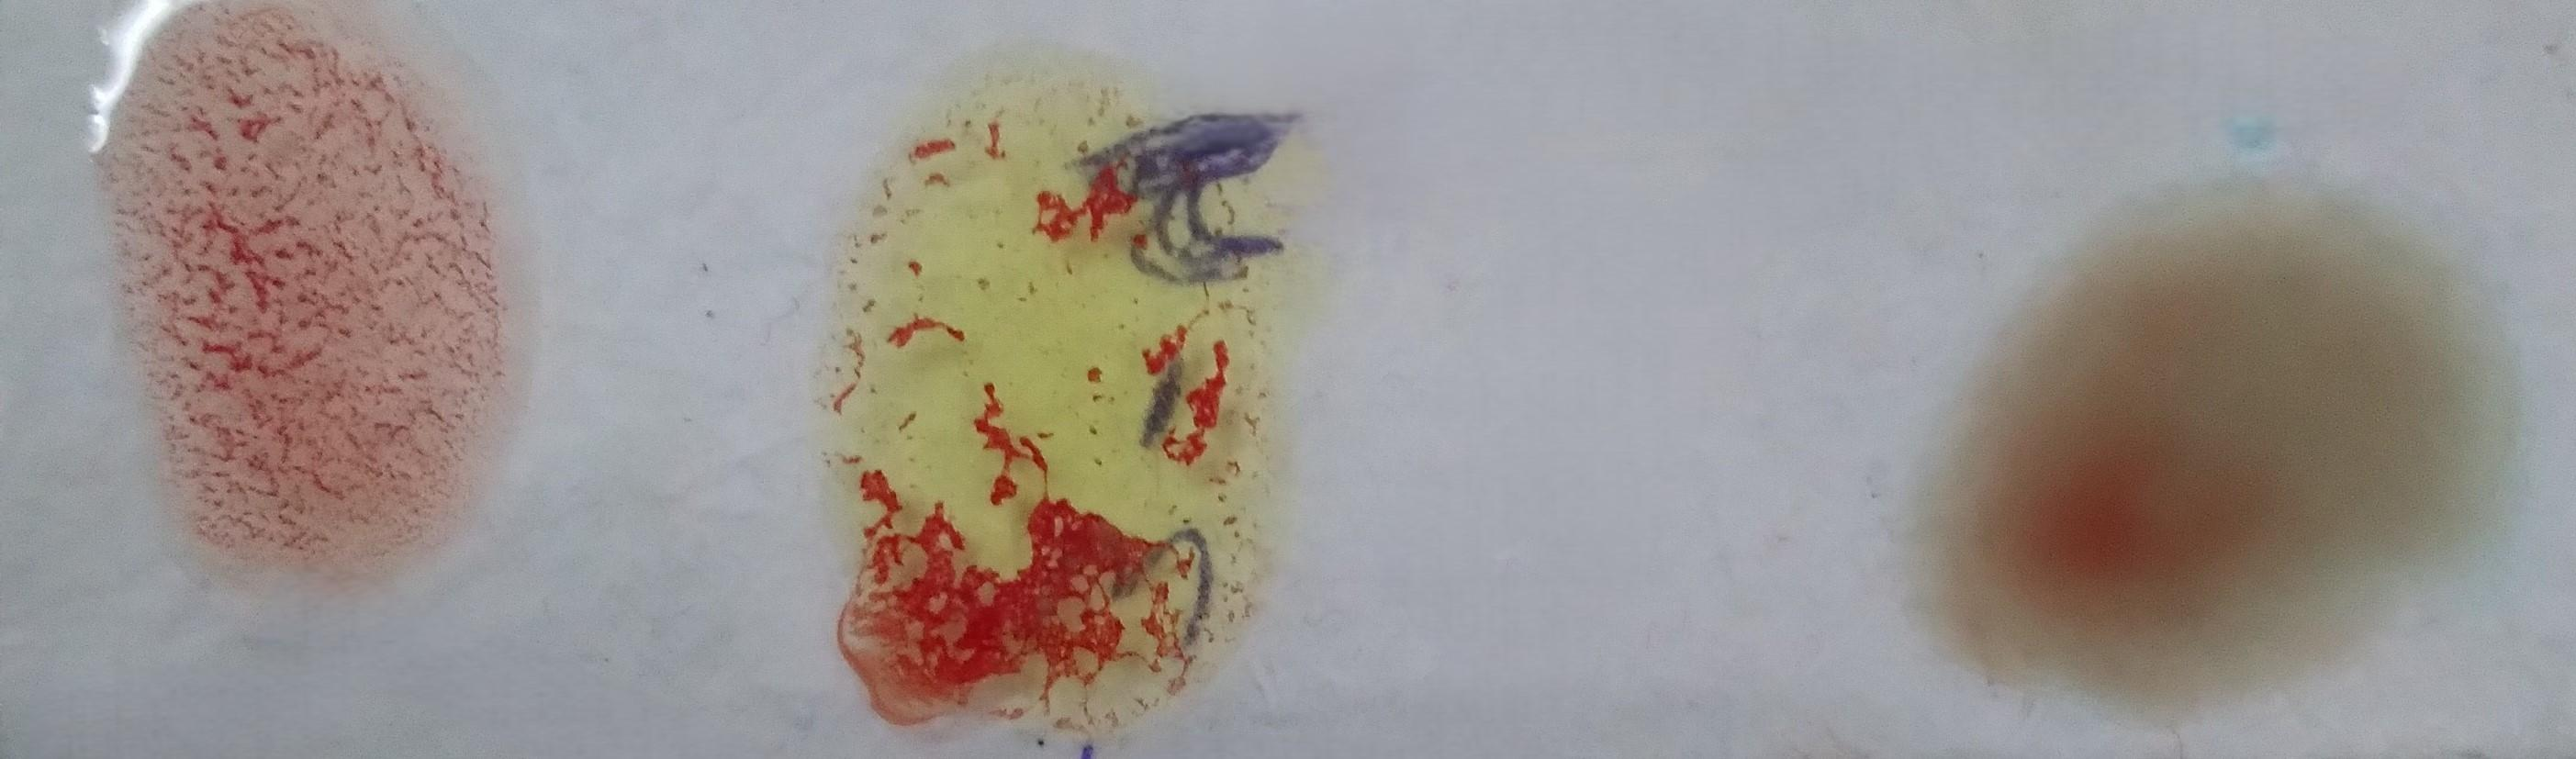B: (854, 53, 1258, 726)
D: (120, 26, 499, 567)
